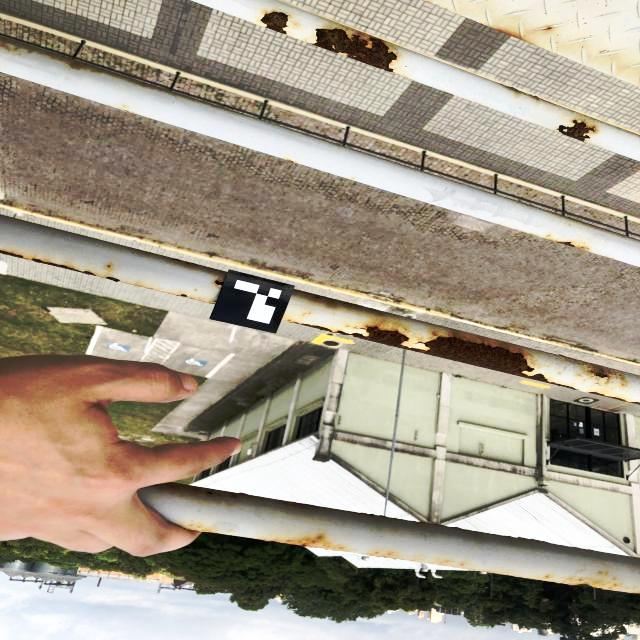Corrosion: (284, 318, 640, 405), (307, 27, 407, 78), (0, 250, 122, 283), (257, 535, 342, 550), (581, 366, 629, 388), (555, 119, 597, 142), (259, 10, 289, 35), (556, 579, 616, 590), (547, 238, 591, 252), (493, 28, 531, 44), (65, 58, 85, 69), (215, 279, 224, 287), (178, 293, 191, 298), (547, 26, 554, 30)
